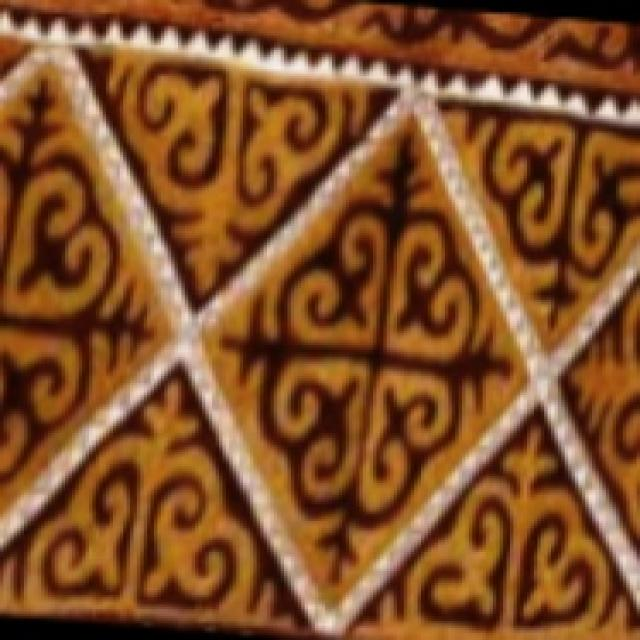Unity: (197, 116, 525, 603), (0, 49, 163, 523), (0, 381, 300, 631), (85, 54, 390, 288), (331, 415, 637, 638), (434, 102, 637, 346)
